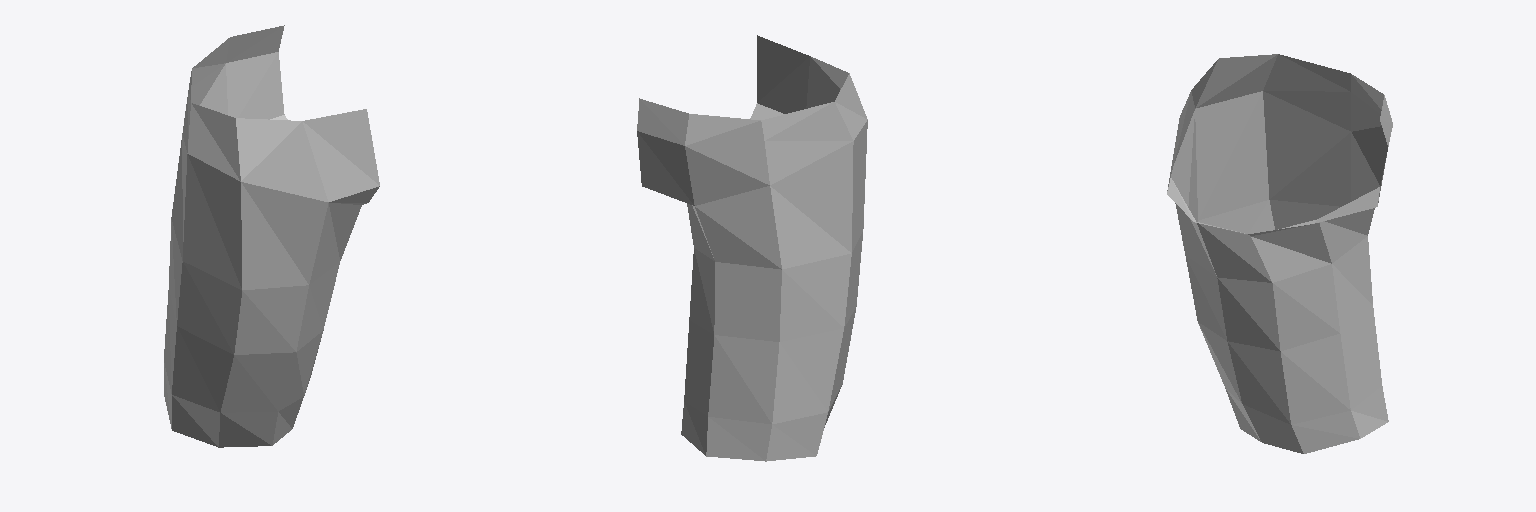
File: human_rightthigh.obj
The picture shows the model from 3 angles: view 1: azimuth 30°, elevation 25°; view 2: azimuth 150°, elevation 25°; view 3: azimuth 270°, elevation 25°; orthographic projection.
Parts seen in each view (by area): view 1: Right_Thigh; view 2: Right_Thigh; view 3: Right_Thigh.
Boxes of the visible parts, <box> form: Right_Thigh: <box>164,25,379,447</box>; Right_Thigh: <box>637,35,867,461</box>; Right_Thigh: <box>1167,54,1392,453</box>.
Bounding box in the file's own units: 0.3255 × 0.6918 × 0.4058.